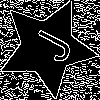J: (22, 22, 75, 66)
